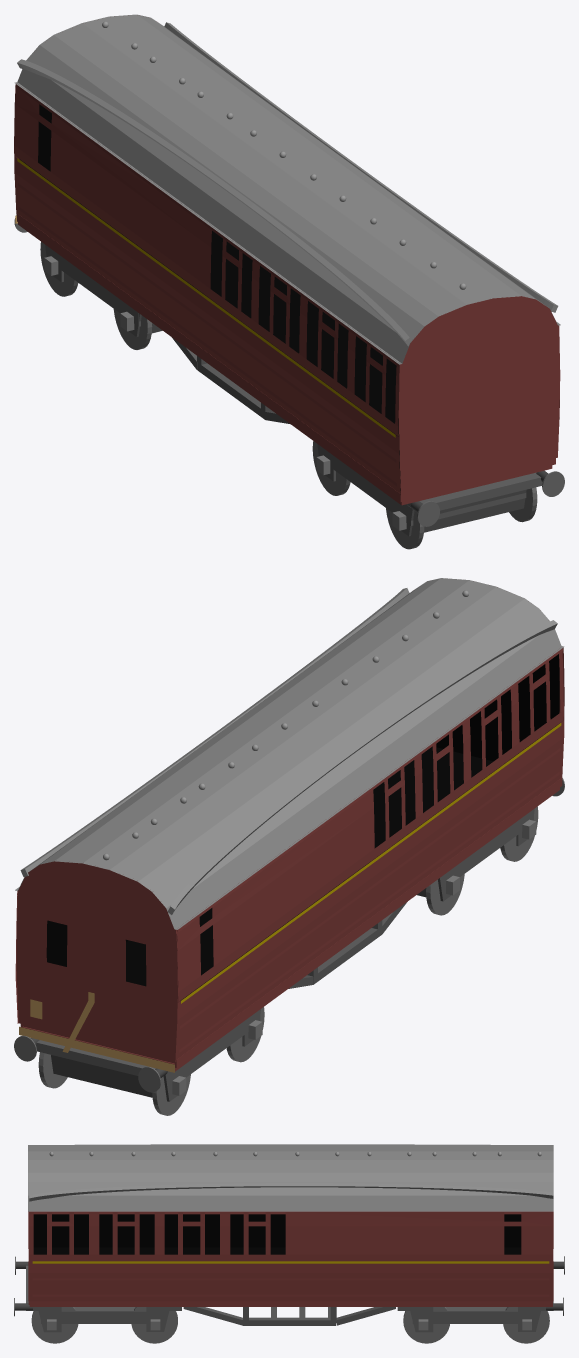
Rendered from lner-standard-51ft-third-brake-for-maroon.dae.
3 renders of one model, top to bottom at view 1: azimuth 30°, elevation 25°; view 2: azimuth 150°, elevation 25°; view 3: azimuth 270°, elevation 25°, orthographic. The views are drawn at different scales.
Visible parts, largest first — view 1: Plane_083, Plane_001, Plane_359, Plane_002, Plane_009, Plane_019, Plane_016, Plane_012, Cube_029, Cube_043, Cube_070, Cube_028 (+4 smaller); view 2: Plane_083, Plane_006, Plane_359, Plane_002, Plane_009, Plane_019, Cube_043, Plane_016, Plane_012, Cube_029, Cube_028, Plane_003 (+5 smaller); view 3: Plane_002, Plane_359, Plane_008, Plane_019, Plane_004, Plane_083, Cube_043, Cube_028, Plane_012, Cube_072, Plane_007, Cube_027 (+7 smaller).
Part boxes in pixels (x1,y1,x2,y2): Plane_083: [14, 20, 479, 364]; Plane_001: [398, 296, 560, 495]; Plane_359: [14, 85, 559, 494]; Plane_002: [95, 14, 560, 325]; Plane_009: [15, 88, 207, 295]; Plane_019: [19, 104, 400, 490]; Plane_016: [206, 228, 399, 436]; Plane_012: [17, 213, 555, 501]; Cube_029: [17, 59, 411, 346]; Cube_043: [40, 242, 162, 349]; Cube_070: [401, 472, 542, 536]; Cube_028: [164, 22, 558, 312]; Plane_083: [97, 583, 564, 929]; Plane_006: [16, 861, 178, 1061]; Plane_359: [15, 648, 564, 1061]; Plane_002: [15, 578, 483, 890]; Plane_009: [176, 792, 370, 1002]; Plane_019: [46, 654, 559, 1000]; Cube_043: [36, 1007, 264, 1115]; Plane_016: [369, 651, 563, 861]; Plane_012: [20, 778, 562, 1067]; Cube_029: [167, 620, 557, 914]; Cube_028: [20, 588, 409, 876]; Plane_003: [19, 992, 174, 1072]; Plane_002: [28, 1155, 553, 1211]; Plane_359: [28, 1211, 553, 1301]; Plane_008: [291, 1212, 552, 1261]; Plane_019: [33, 1214, 521, 1254]; Plane_004: [28, 1212, 290, 1261]; Plane_083: [28, 1145, 553, 1155]; Cube_043: [397, 1301, 553, 1343]; Cube_028: [29, 1183, 553, 1201]; Plane_012: [28, 1301, 552, 1304]; Cube_072: [41, 1307, 165, 1323]; Plane_007: [29, 1301, 552, 1306]; Cube_027: [243, 1317, 335, 1325].
Size of the model in its own units: 2.07 by 8.92 by 3.07.
